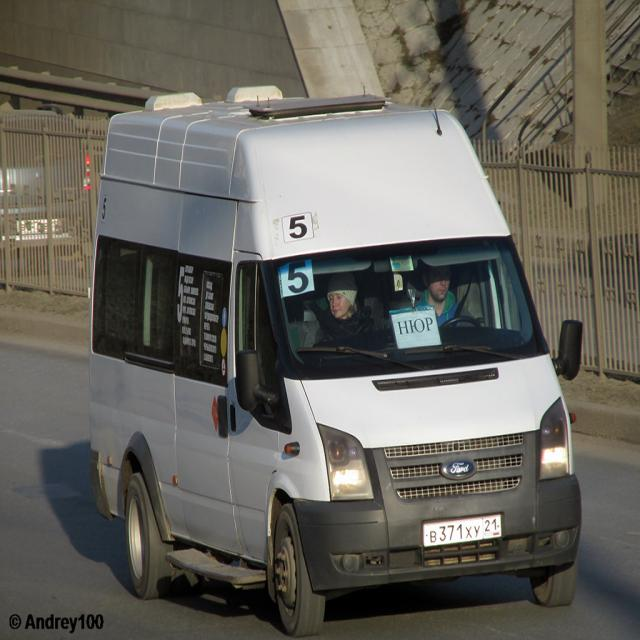number-of-bus: (286, 254, 312, 296), (288, 214, 311, 242)
